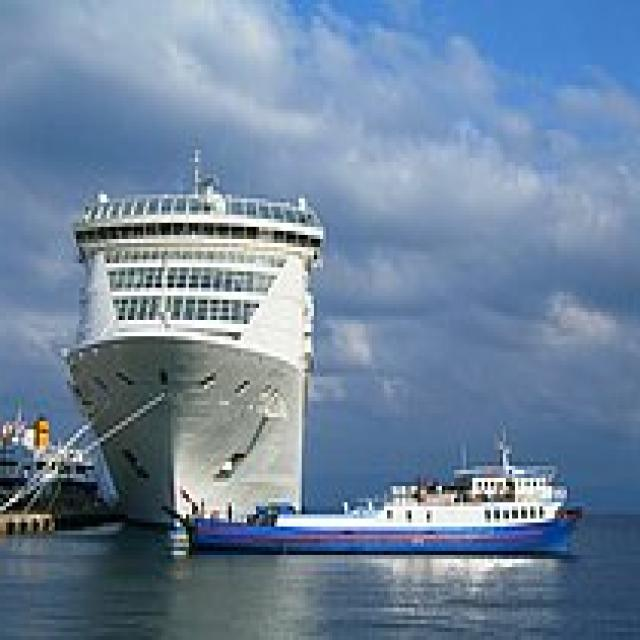Cruise: (64, 130, 332, 530)
